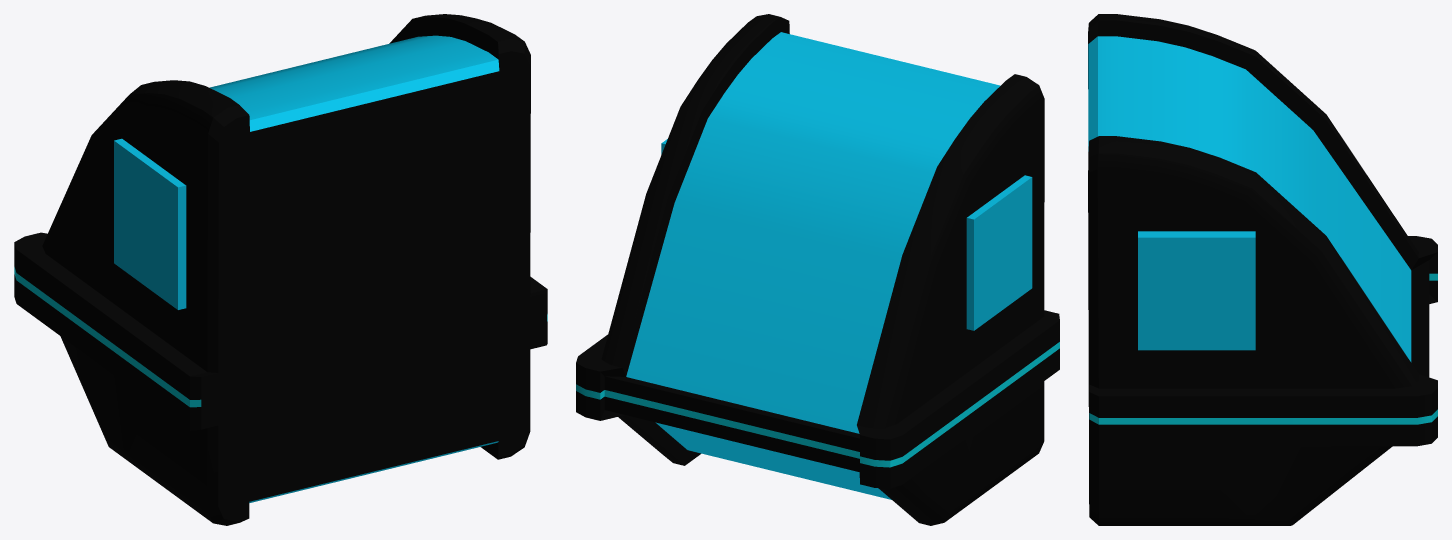
Rendered from head.fbx.
3 renders of one model, left to right at view 1: azimuth 30°, elevation 25°; view 2: azimuth 150°, elevation 25°; view 3: azimuth 270°, elevation 25°, orthographic. The views are drawn at different scales.
Parts seen in each view (by area): view 1: pCube8; view 2: pCube8; view 3: pCube8.
Part boxes in pixels (x1,y1,x2,y2): pCube8: (14,14,547,525); pCube8: (576,14,1059,525); pCube8: (1088,14,1437,525).
Size of the model in its own units: 3.56 by 3.97 by 3.28.
